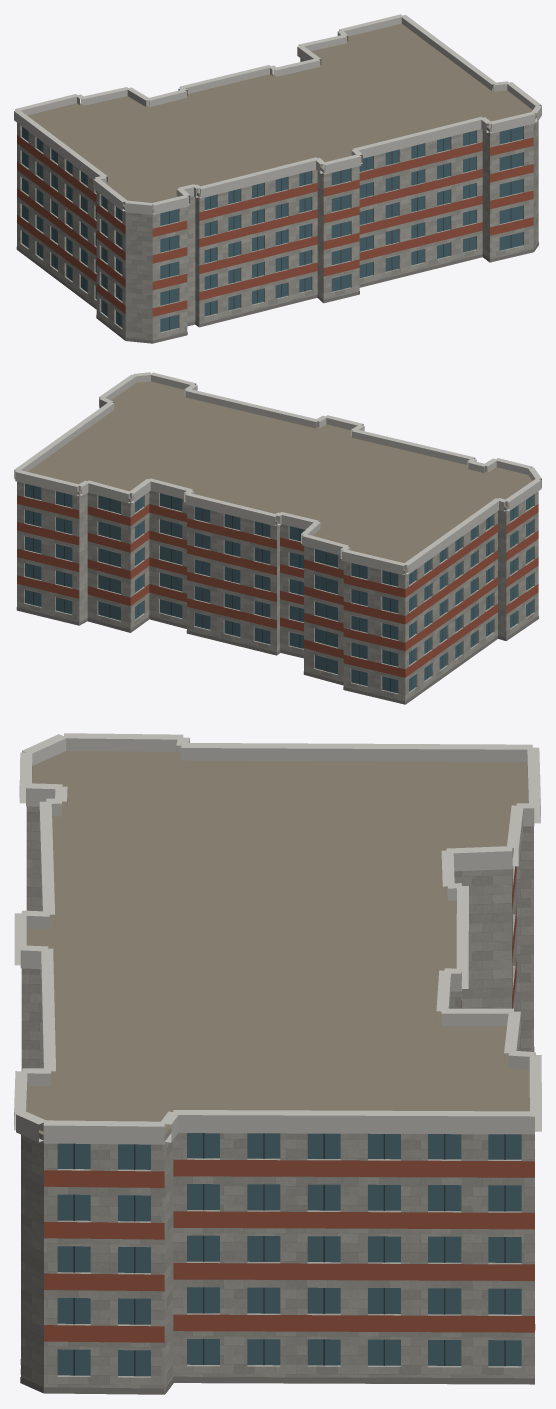
3 views of the same model, one above another, from view 1: azimuth 30°, elevation 25°; view 2: azimuth 150°, elevation 25°; view 3: azimuth 270°, elevation 25° (orthographic). The views are drawn at different scales.
Visible parts, largest first — view 1: samuiwon__roof, samuiwon__wall, samuiwon__wall2, samuiwon__glass, samuiwon__trim, samuiwon__base, samuiwon__frame; view 2: samuiwon__roof, samuiwon__wall, samuiwon__wall2, samuiwon__glass, samuiwon__trim, samuiwon__base, samuiwon__frame; view 3: samuiwon__roof, samuiwon__wall, samuiwon__trim, samuiwon__glass, samuiwon__wall2, samuiwon__base, samuiwon__frame.
Boxes of the visible parts, x1=… form: samuiwon__roof: x1=27, y1=23, x2=536, y2=210; samuiwon__wall: x1=17, y1=58, x2=538, y2=340; samuiwon__wall2: x1=17, y1=135, x2=533, y2=316; samuiwon__glass: x1=22, y1=126, x2=522, y2=332; samuiwon__trim: x1=14, y1=14, x2=541, y2=214; samuiwon__base: x1=16, y1=242, x2=538, y2=343; samuiwon__frame: x1=25, y1=129, x2=511, y2=330; samuiwon__roof: x1=28, y1=381, x2=532, y2=570; samuiwon__wall: x1=17, y1=481, x2=538, y2=704; samuiwon__wall2: x1=17, y1=495, x2=538, y2=677; samuiwon__glass: x1=25, y1=483, x2=533, y2=693; samuiwon__trim: x1=14, y1=372, x2=541, y2=575; samuiwon__base: x1=16, y1=607, x2=538, y2=704; samuiwon__frame: x1=33, y1=485, x2=529, y2=691; samuiwon__roof: x1=26, y1=751, x2=534, y2=1394; samuiwon__wall: x1=21, y1=802, x2=534, y2=1393; samuiwon__trim: x1=14, y1=733, x2=541, y2=1144; samuiwon__glass: x1=57, y1=1133, x2=521, y2=1376; samuiwon__wall2: x1=44, y1=866, x2=534, y2=1342; samuiwon__base: x1=20, y1=1047, x2=535, y2=1394; samuiwon__frame: x1=73, y1=1133, x2=505, y2=1376.
Size of the model in its own units: 53.96 by 17.32 by 30.59.
Materials: 7 (1 with a texture image).
